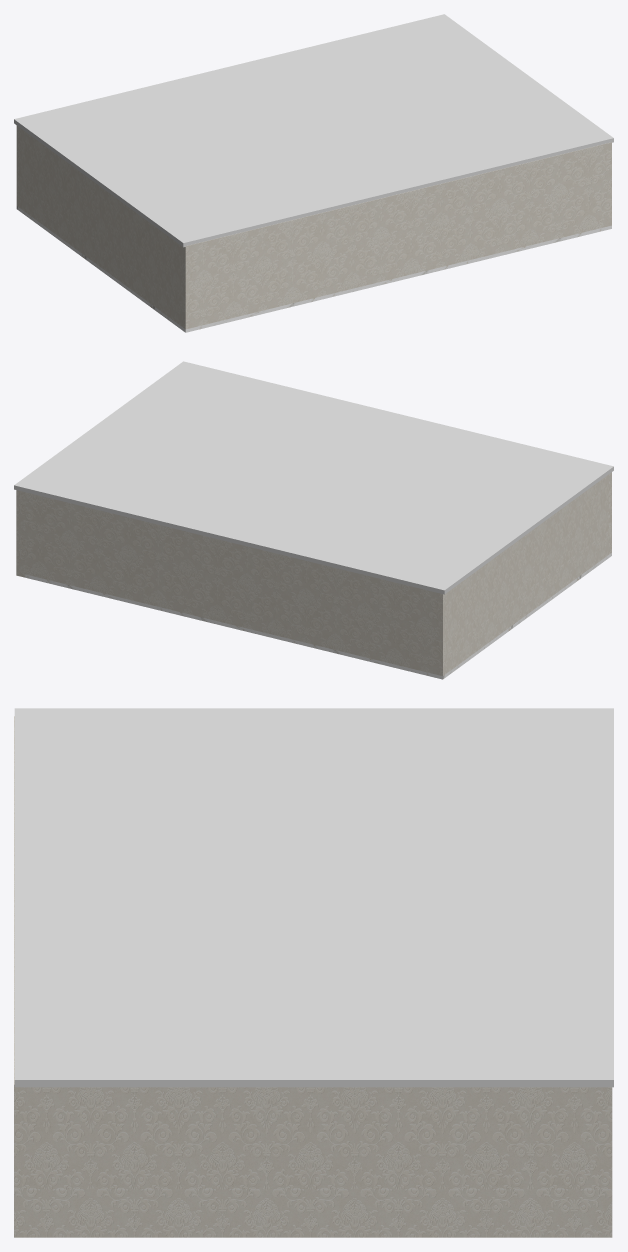
The model's file is galleryInLightTexture.glb.
The picture shows the model from 3 angles, top to bottom: view 1: azimuth 30°, elevation 25°; view 2: azimuth 150°, elevation 25°; view 3: azimuth 270°, elevation 25°; orthographic projection. The views are drawn at different scales.
Parts seen in each view (by area): view 1: ceiling, walls; view 2: ceiling, walls; view 3: ceiling, walls.
Boxes of the visible parts, bbox=[...] form: ceiling: bbox=[14, 14, 613, 247]; walls: bbox=[16, 125, 611, 332]; ceiling: bbox=[14, 361, 613, 594]; walls: bbox=[16, 472, 611, 679]; ceiling: bbox=[14, 708, 613, 1087]; walls: bbox=[14, 716, 612, 1237].
Bounding box in the file's own units: 29.39 × 5.87 × 20.05.
Materials: 4 (3 with a texture image).
